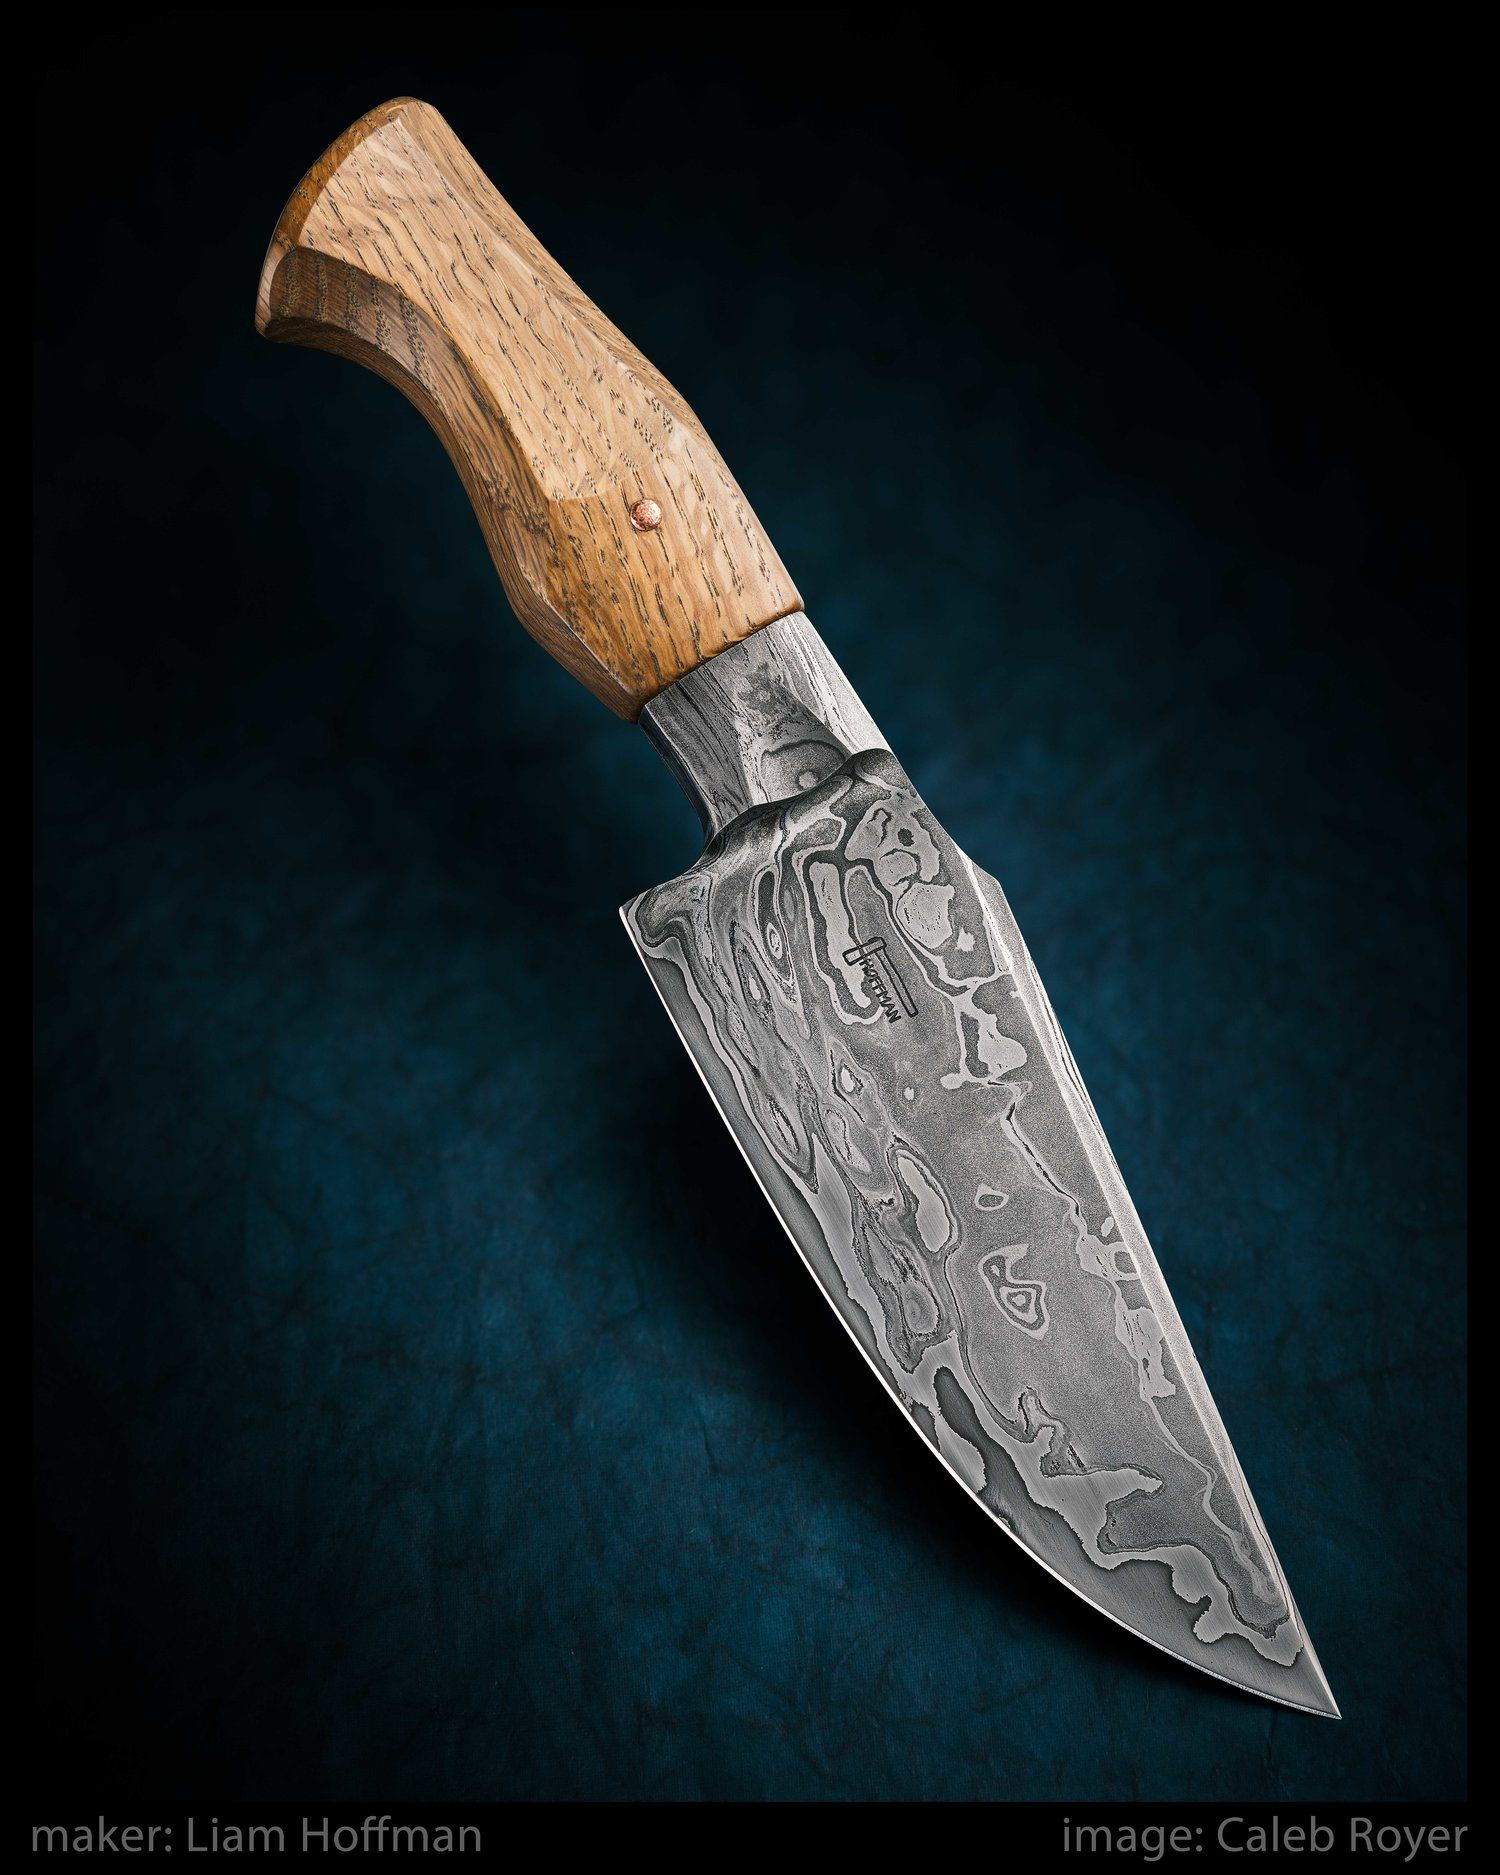knife: (207, 80, 1362, 1727)
